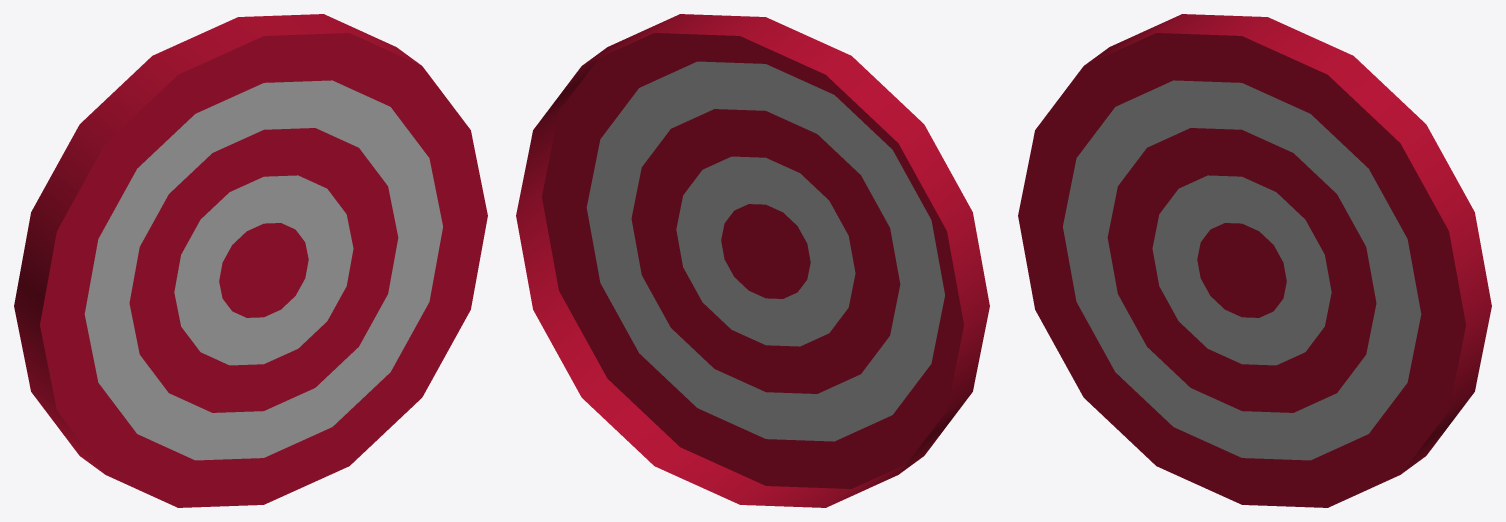
3 renders of one model, left to right at view 1: azimuth 30°, elevation 25°; view 2: azimuth 150°, elevation 25°; view 3: azimuth 330°, elevation 25°, orthographic.
Visible parts, largest first — view 1: Joint_0_Object_1, Joint_0_Object_0; view 2: Joint_0_Object_1, Joint_0_Object_0; view 3: Joint_0_Object_1, Joint_0_Object_0.
Part boxes in pixels (x1,y1,x2,y2): Joint_0_Object_1: [14, 14, 487, 507]; Joint_0_Object_0: [84, 80, 442, 460]; Joint_0_Object_1: [516, 14, 989, 507]; Joint_0_Object_0: [586, 61, 944, 441]; Joint_0_Object_1: [1018, 14, 1491, 507]; Joint_0_Object_0: [1063, 80, 1421, 460].
Bounding box in the file's own units: 10 × 10 × 1.
